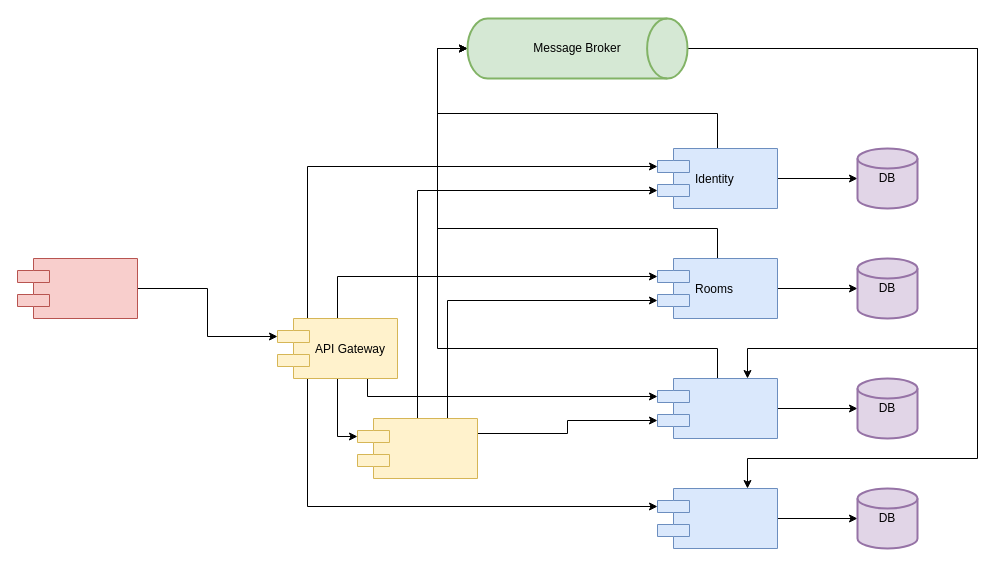
Image size: 1003x566. Some labels were removed from this diagram. Here are the shapes that lost their labels. From the top down, the centre of each, then its label:
At [77,288]: "Web".
At [717,408]: "Ordering".
At [417,448]: "API Gateway Ordering Aggregator".
At [717,518]: "Analytics".
